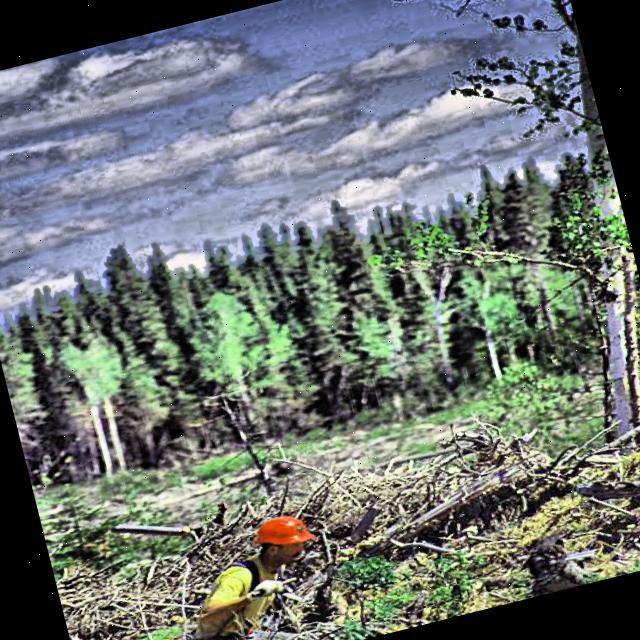helmet: (248, 507, 320, 573)
